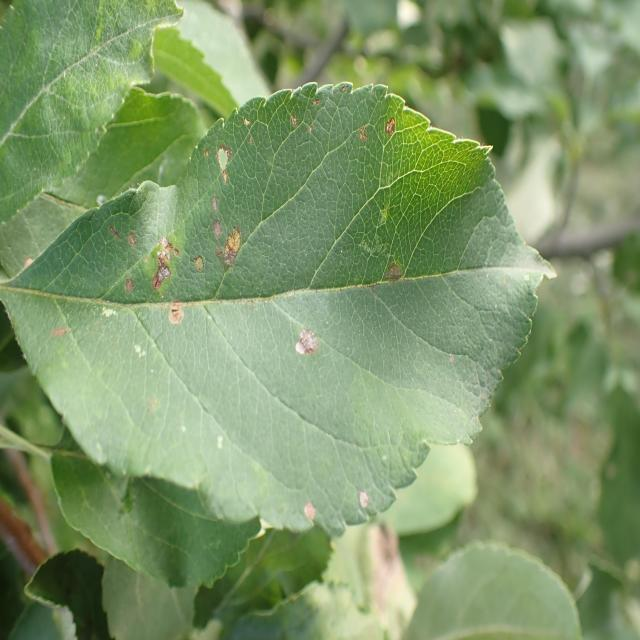frog-eye-leaf-spot: (0, 80, 558, 533)
